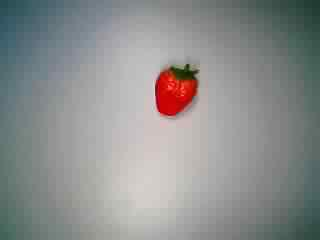strawberry: (143, 60, 211, 124)
